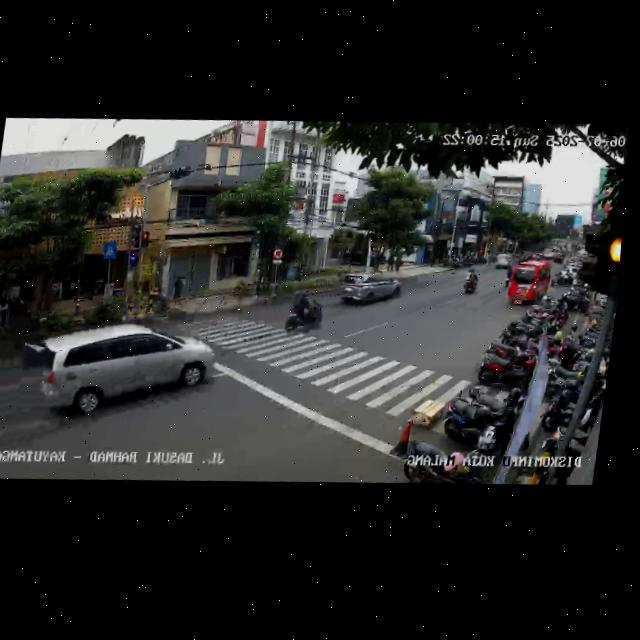car: (41, 312, 219, 430), (334, 267, 403, 312), (504, 258, 554, 309), (538, 243, 566, 262), (490, 252, 514, 270)
motorcycle: (9, 327, 59, 378), (283, 286, 328, 336), (460, 267, 480, 297)
